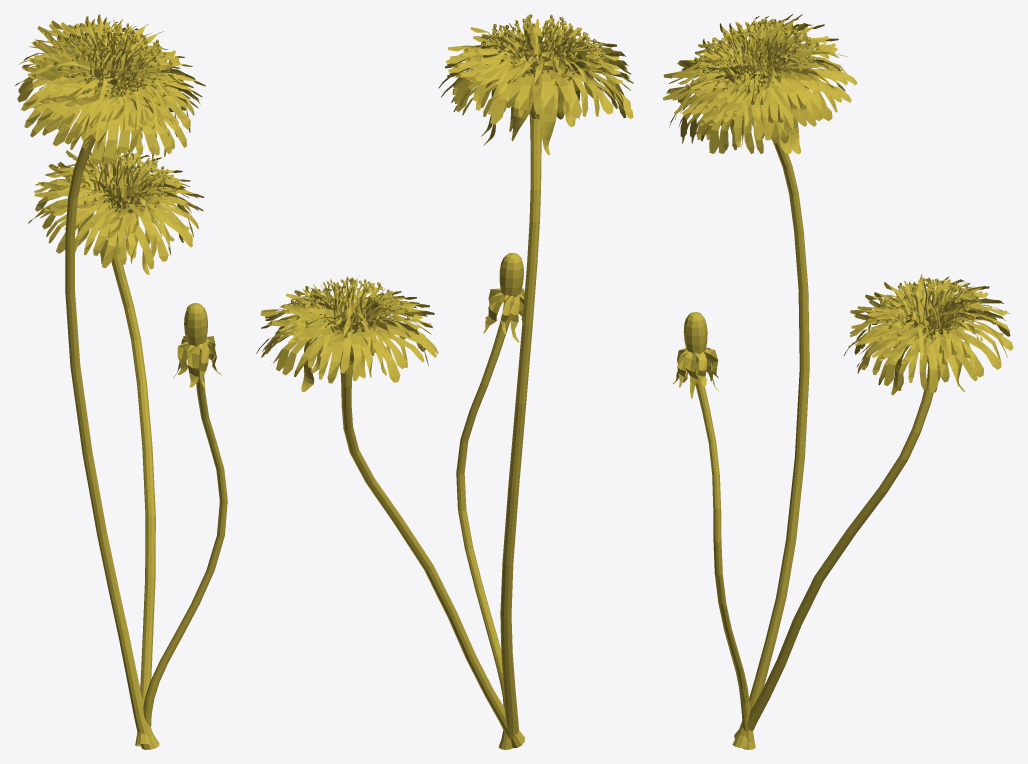
Rendered from dandelions.glb.
3 views of the same model, side by side, from view 1: azimuth 30°, elevation 25°; view 2: azimuth 150°, elevation 25°; view 3: azimuth 270°, elevation 25° (orthographic). The views are drawn at different scales.
Visible parts, largest first — view 1: dandelion_0, dandelion_1, dandelion_2; view 2: dandelion_1, dandelion_0, dandelion_2; view 3: dandelion_0, dandelion_1, dandelion_2.
Part boxes in pixels (x1,y1,x2,y2): dandelion_0: (15,14,205,749); dandelion_1: (28,146,204,746); dandelion_2: (21,16,227,727); dandelion_1: (256,276,524,747); dandelion_0: (438,14,630,746); dandelion_2: (441,23,633,749); dandelion_0: (662,14,847,748); dandelion_1: (734,274,1013,738); dandelion_2: (672,14,857,749).
Size of the model in its own units: 0.0599 by 0.1606 by 0.0726.
Materials: 1 (1 with a texture image).
